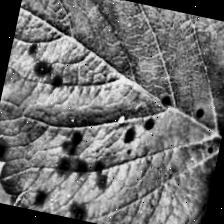Leaf Spot: (0, 0, 224, 224), (80, 122, 219, 224), (0, 139, 92, 219)
